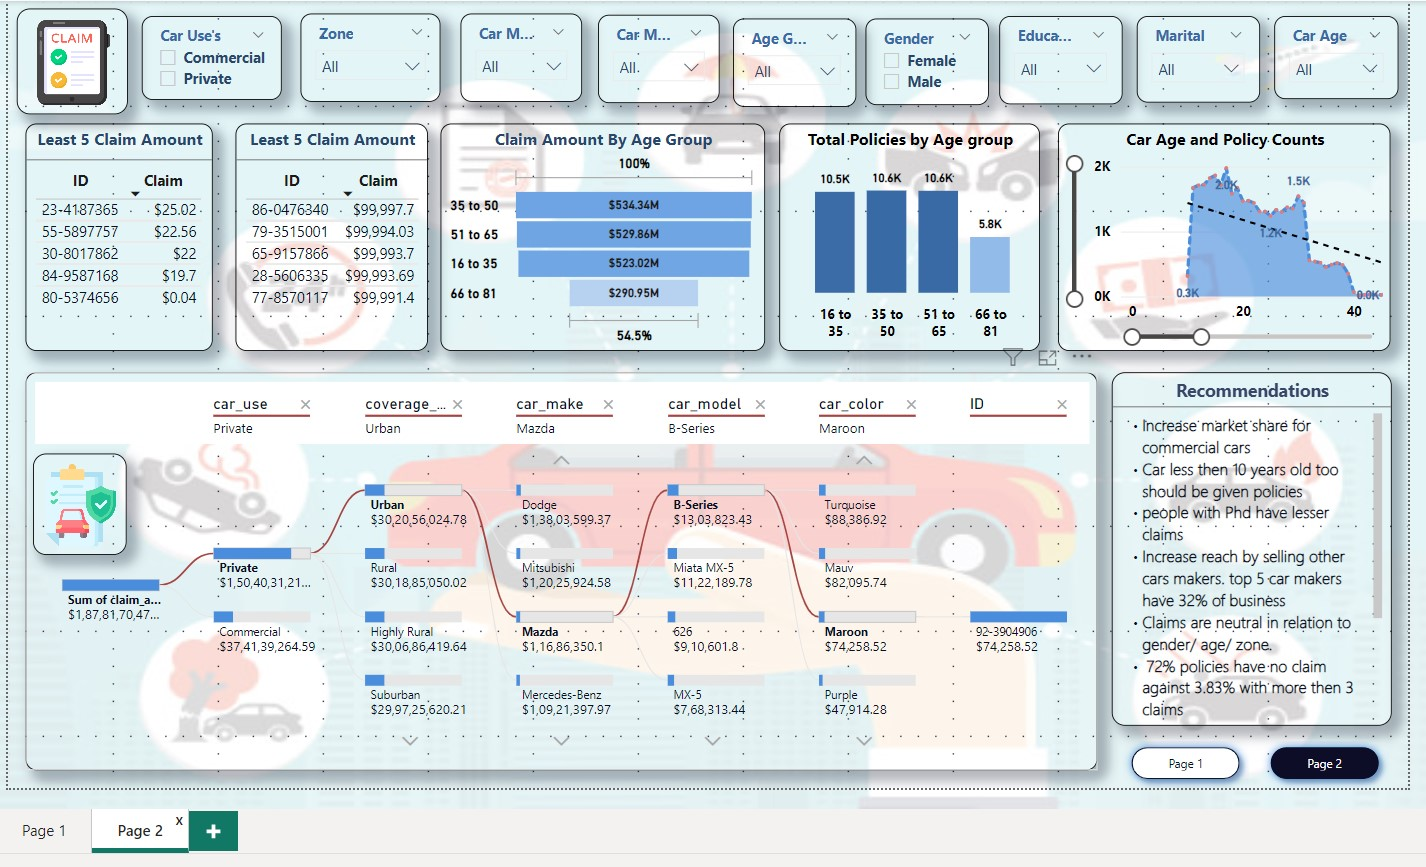

What the dashboard file says about the page in this screenshot:
{"tool":"powerbi","page":{"name":"Page 2","canvas":[1280,720],"ordinal":1},"visuals":[{"type":"decompositionTreeVisual","fields":{"Analyze":["Sum(Insurance Policies.claim_amt)"],"ExplainBy":["Insurance Policies.car_use","Insurance Policies.coverage_zone","Insurance Policies.car_make","Insurance Policies.car_model","Insurance Policies.car_color","Insurance Policies.ID"]},"box":[15.9,339.8,980.4,364.3],"z":0},{"type":"slicer","fields":{"Values":["Insurance Policies.coverage_zone"]},"box":[267.7,11,128.4,80.7],"z":1000},{"type":"slicer","fields":{"Values":["Insurance Policies.car_make"]},"box":[413.2,11,111.2,80.7],"z":2000},{"type":"slicer","fields":{"Values":["Insurance Policies.car_model"]},"box":[539.1,12.2,111.2,80.7],"z":3000},{"type":"slicer","fields":{"Values":["Insurance Policies.Age Group"]},"box":[662.5,15.9,112.5,80.7],"z":4000},{"type":"slicer","fields":{"Values":["Insurance Policies.education"]},"box":[905.8,13.4,112.5,80.7],"z":5000},{"type":"slicer","fields":{"Values":["Insurance Policies.car_use"]},"box":[122.2,13.4,128.4,77],"z":6000},{"type":"slicer","fields":{"Values":["Insurance Policies.gender"]},"box":[783.6,15.9,112.5,79.5],"z":7000},{"type":"slicer","fields":{"Values":["Insurance Policies.marital_status"]},"box":[1031.7,13.4,112.5,79.5],"z":8000},{"type":"slicer","fields":{"Values":["Insurance Policies.Car_Age"]},"box":[1157.6,13.4,113.7,75.8],"z":9000},{"type":"pageNavigator","box":[1018.6,672.7,245.6,47.3],"z":10000},{"type":"tableEx","title":"Least 5 Claim Amount","fields":{"Values":["Insurance Policies.ID","Sum(Insurance Policies.claim_amt)"]},"box":[15.9,112.5,171.1,207.8],"z":11000},{"type":"funnel","title":"Claim Amount By Age Group","fields":{"Category":["Insurance Policies.Age Group"],"Y":["Sum(Insurance Policies.claim_amt)"]},"box":[395.3,112.2,296.8,207.6],"z":12000},{"type":"clusteredColumnChart","title":"Total Policies by Age group","fields":{"Category":["Insurance Policies.Age Group"],"Y":["CountNonNull(Insurance Policies.ID)"]},"box":[705.3,112.5,238.4,207.8],"z":13000},{"type":"areaChart","title":"Car Age and Policy Counts","fields":{"Y":["CountNonNull(Insurance Policies.ID)"],"Category":["Insurance Policies.Car_Age"]},"box":[959.6,112.5,304.4,207.8],"z":14000},{"type":"tableEx","title":"Least 5 Claim Amount","fields":{"Values":["Insurance Policies.ID","Sum(Insurance Policies.claim_amt)"]},"box":[207.8,112.5,176,207.8],"z":15000},{"type":"textbox","title":"Recommendations","box":[1008.6,339.3,255.6,323],"z":16000},{"type":"image","box":[23.2,413.2,85.6,92.9],"z":17000},{"type":"image","box":[7.9,6.8,101.4,96.9],"z":18000}]}

Visuals, with their boxes in screenshot pixels (x1, y1, x2, y2):
decompositionTreeVisual - Sum(Insurance Policies.claim_amt) x Insurance Policies.car_use: {"x1": 17, "y1": 370, "x2": 1095, "y2": 770}
slicer - Insurance Policies.coverage_zone: {"x1": 294, "y1": 8, "x2": 435, "y2": 97}
slicer - Insurance Policies.car_make: {"x1": 454, "y1": 8, "x2": 576, "y2": 97}
slicer - Insurance Policies.car_model: {"x1": 592, "y1": 10, "x2": 714, "y2": 98}
slicer - Insurance Policies.Age Group: {"x1": 728, "y1": 14, "x2": 851, "y2": 102}
slicer - Insurance Policies.education: {"x1": 995, "y1": 11, "x2": 1119, "y2": 100}
slicer - Insurance Policies.car_use: {"x1": 134, "y1": 11, "x2": 275, "y2": 96}
slicer - Insurance Policies.gender: {"x1": 861, "y1": 14, "x2": 985, "y2": 101}
slicer - Insurance Policies.marital_status: {"x1": 1133, "y1": 11, "x2": 1257, "y2": 98}
slicer - Insurance Policies.Car_Age: {"x1": 1272, "y1": 11, "x2": 1397, "y2": 94}
pageNavigator: {"x1": 1119, "y1": 735, "x2": 1389, "y2": 787}
"Least 5 Claim Amount" tableEx: {"x1": 17, "y1": 120, "x2": 205, "y2": 348}
"Claim Amount By Age Group" funnel: {"x1": 434, "y1": 120, "x2": 760, "y2": 348}
"Total Policies by Age group" clusteredColumnChart: {"x1": 775, "y1": 120, "x2": 1037, "y2": 348}
"Car Age and Policy Counts" areaChart: {"x1": 1054, "y1": 120, "x2": 1389, "y2": 348}
"Least 5 Claim Amount" tableEx: {"x1": 228, "y1": 120, "x2": 422, "y2": 348}
"Recommendations" textbox: {"x1": 1108, "y1": 369, "x2": 1389, "y2": 724}
image: {"x1": 25, "y1": 450, "x2": 120, "y2": 552}
image: {"x1": 9, "y1": 4, "x2": 120, "y2": 110}
